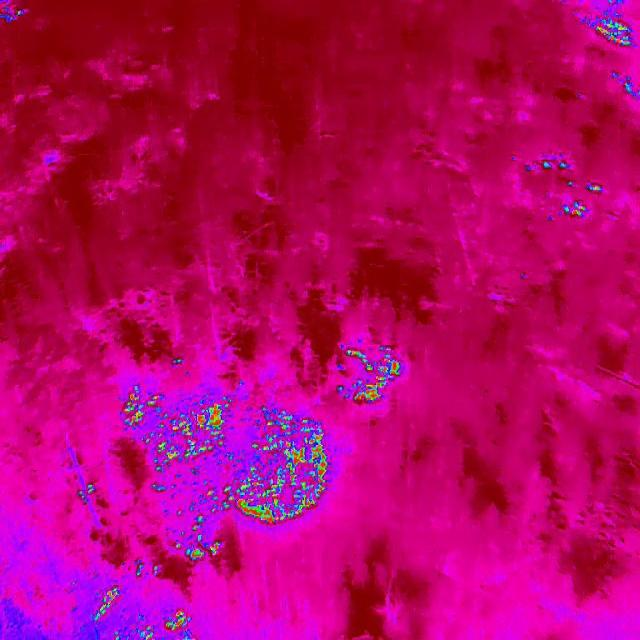fire: (143, 387, 330, 522), (86, 566, 194, 640), (530, 155, 606, 224), (334, 342, 406, 403), (582, 0, 640, 54), (175, 525, 224, 564), (118, 386, 142, 432), (610, 75, 638, 97)
